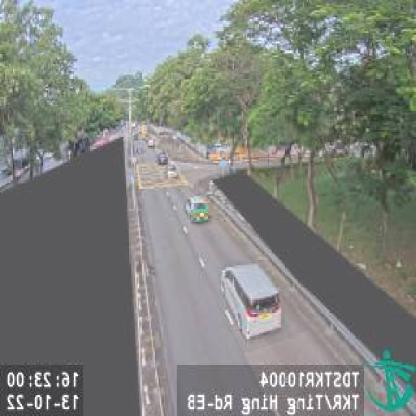Car: (221, 261, 282, 340), (186, 195, 210, 222), (164, 161, 178, 179), (157, 150, 167, 167)
